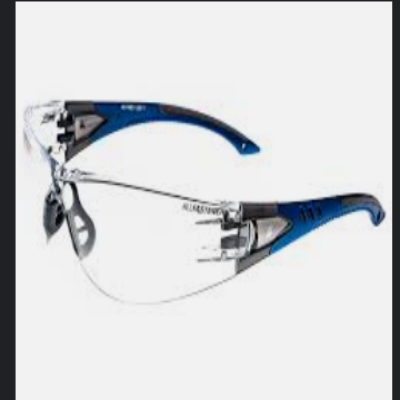glasses: (16, 95, 391, 324)
